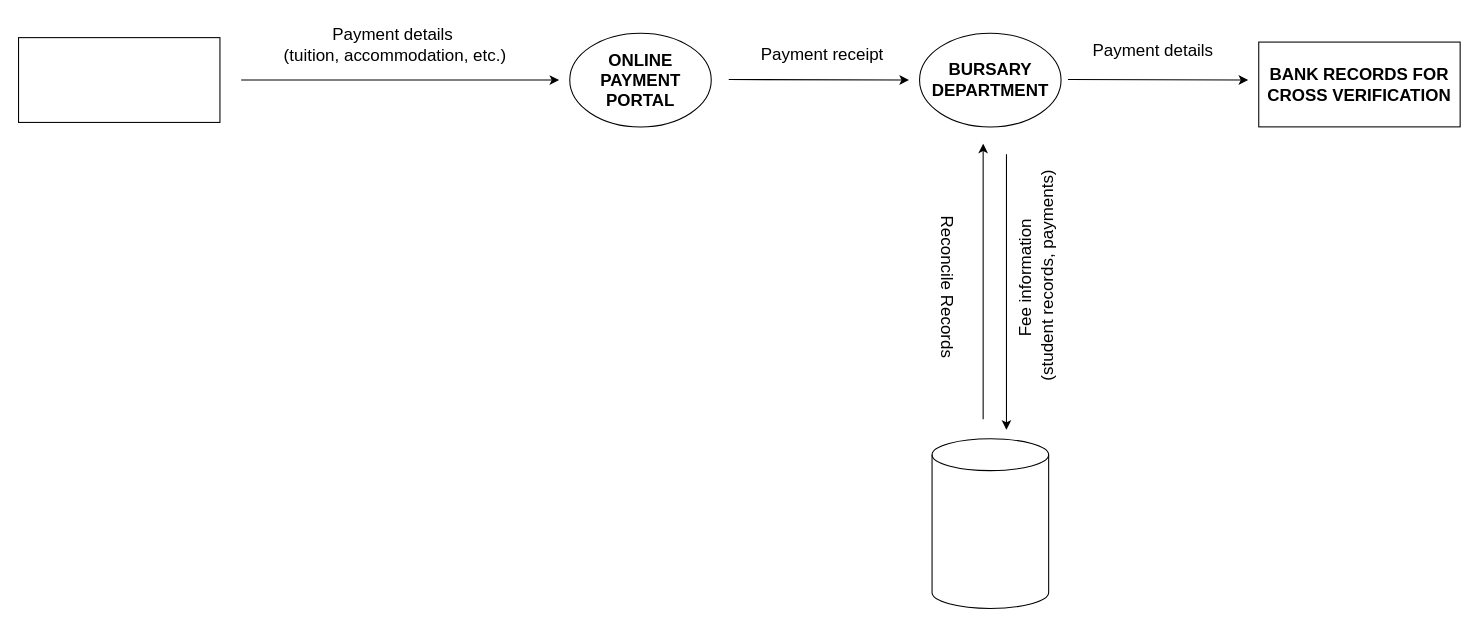
This 1479x626 diagram has some shape labels left out. Here are the shapes that lost their labels. From the top down, the centre of each, then its label:
At (118,79): "STUDENT".
At (990,523): "DATABASE FOR STORAGE".
